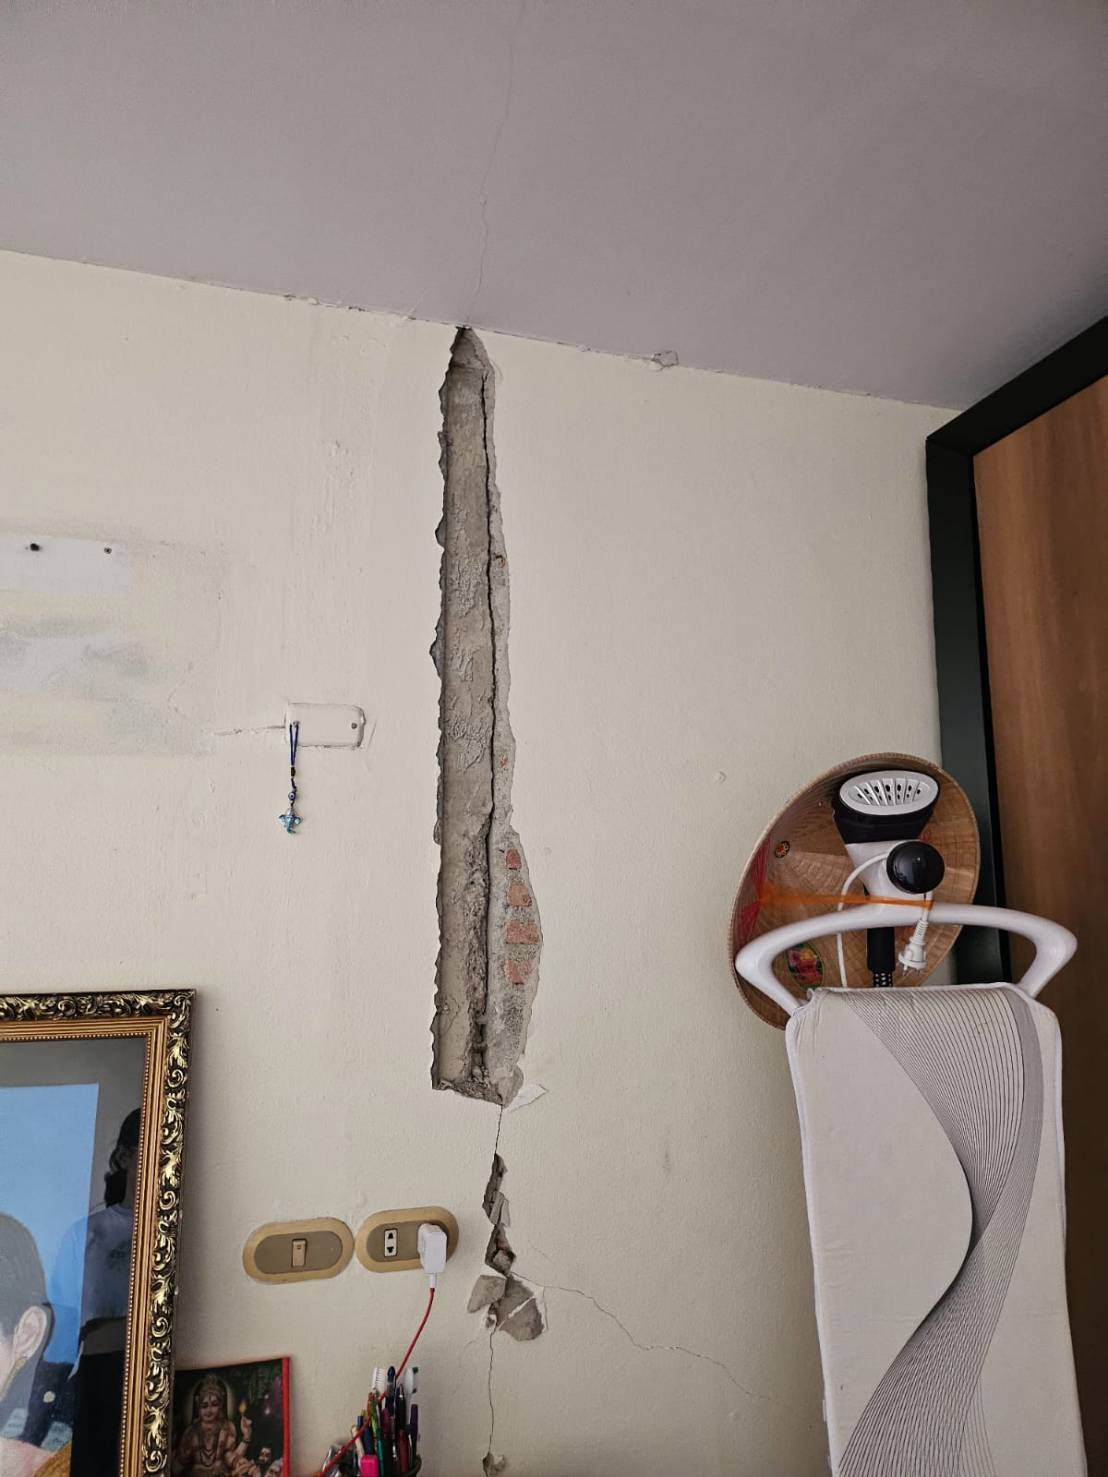Medium: (351, 338, 633, 1176)
